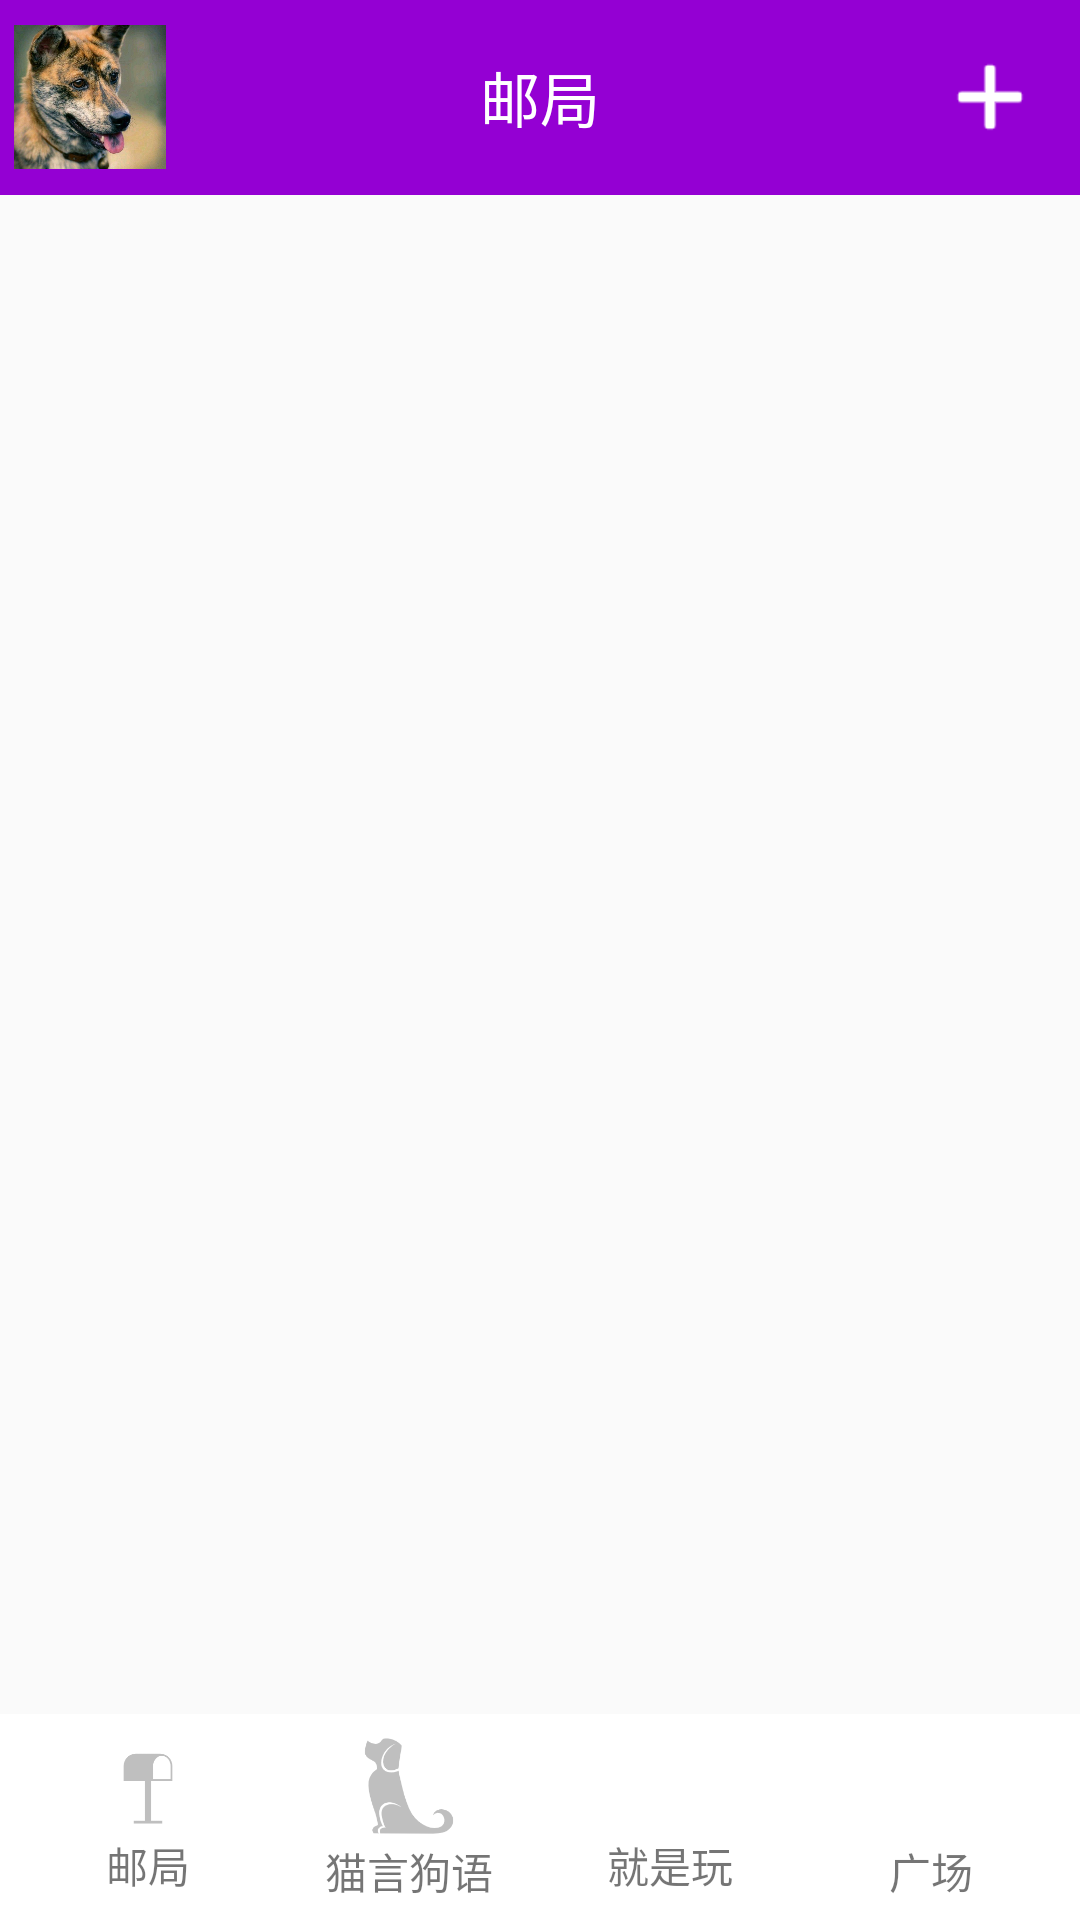

Screen size 1080w x 1920h. Icon name, then its box in pixels as (x1, y1, x2, y2):
xinxiang: (124, 1754, 172, 1824)
